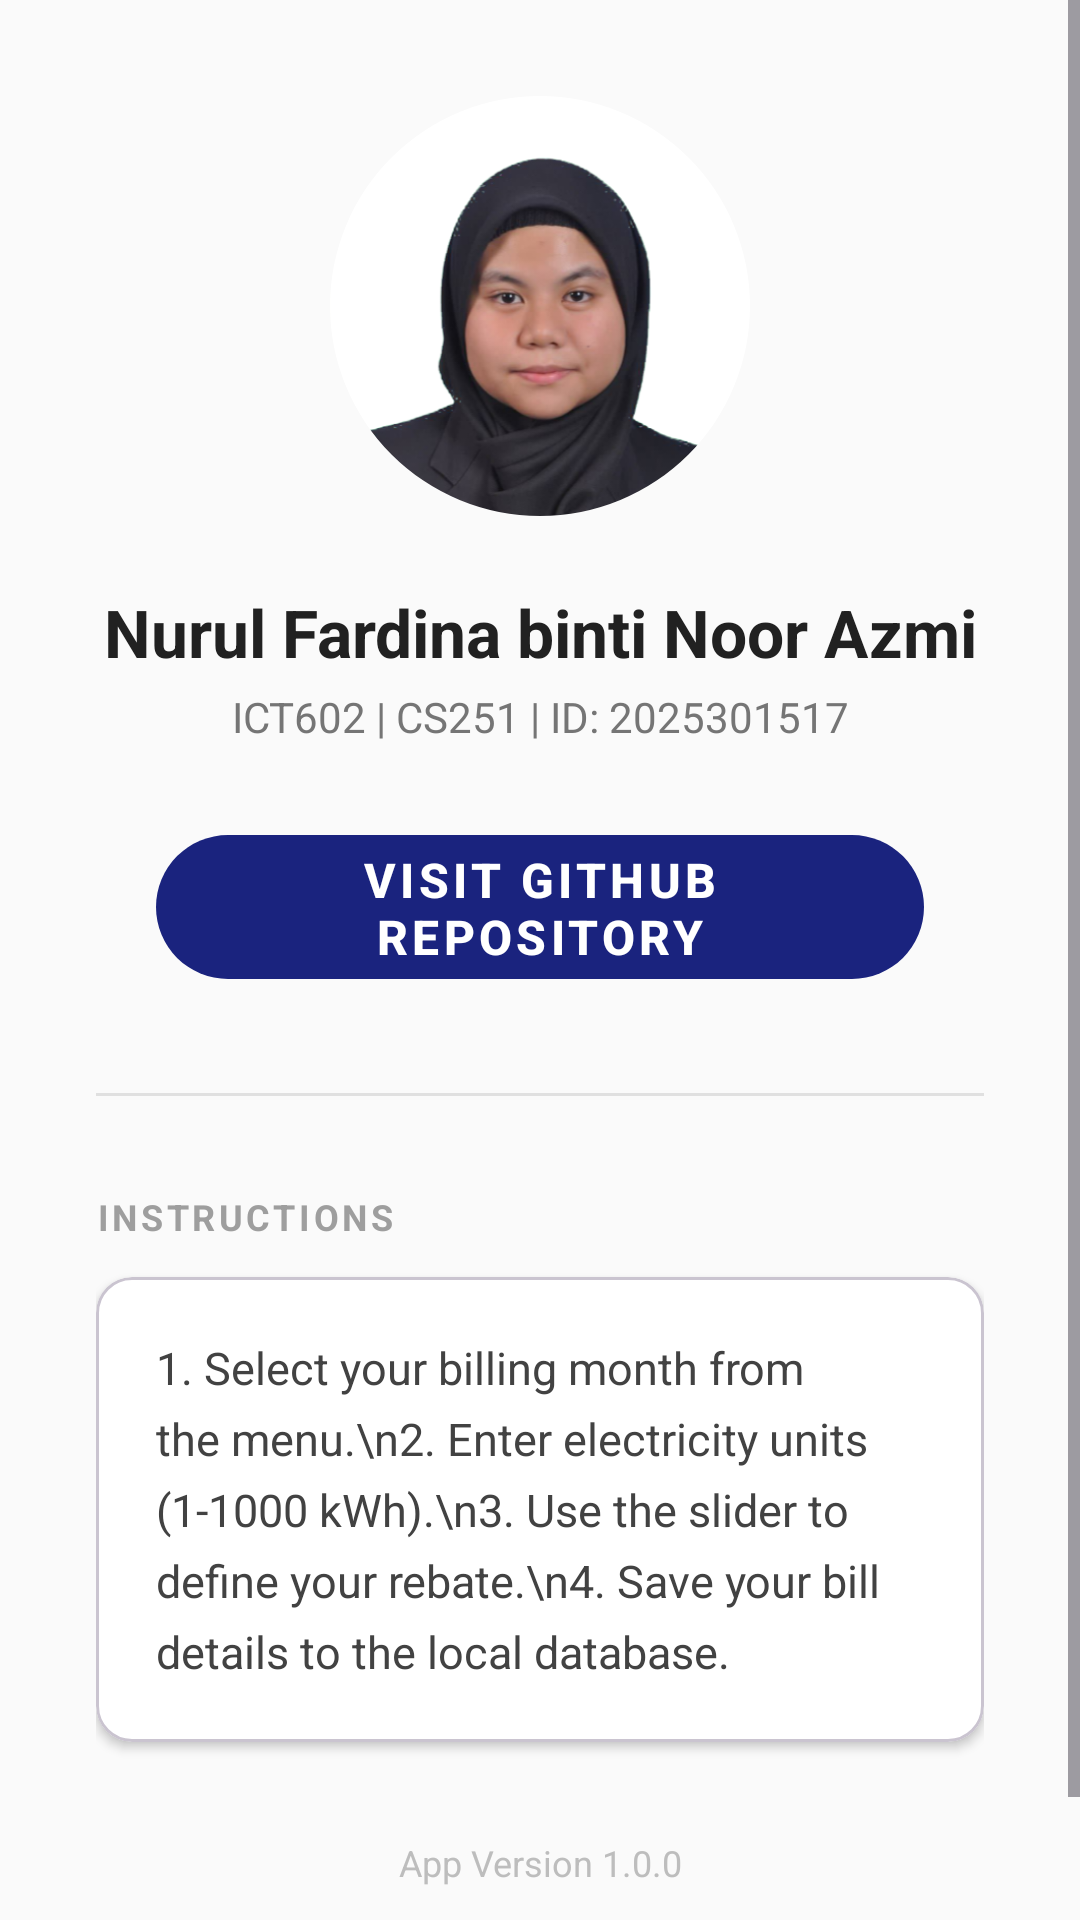

Where icons sit on this 1080*1920 app screen, as (x1,y1,x2,y2):
photo: (370,158,698,516)
